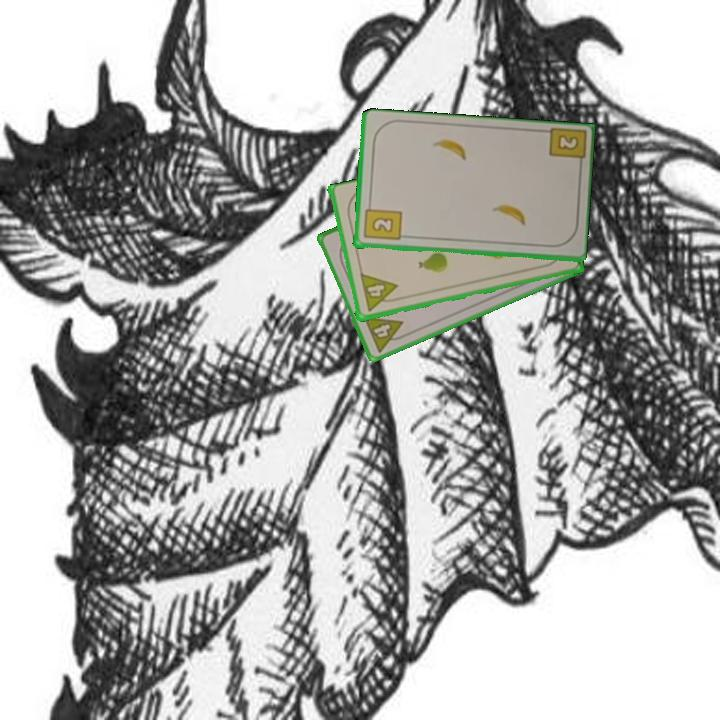2b: (544, 126, 586, 173), (360, 200, 404, 243)
4p: (360, 313, 411, 355), (357, 270, 402, 315)
